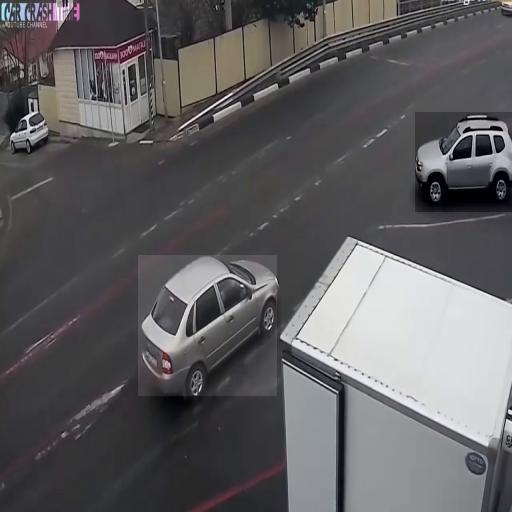小汽车: (138, 255, 277, 396), (415, 112, 512, 212), (10, 108, 50, 154)
